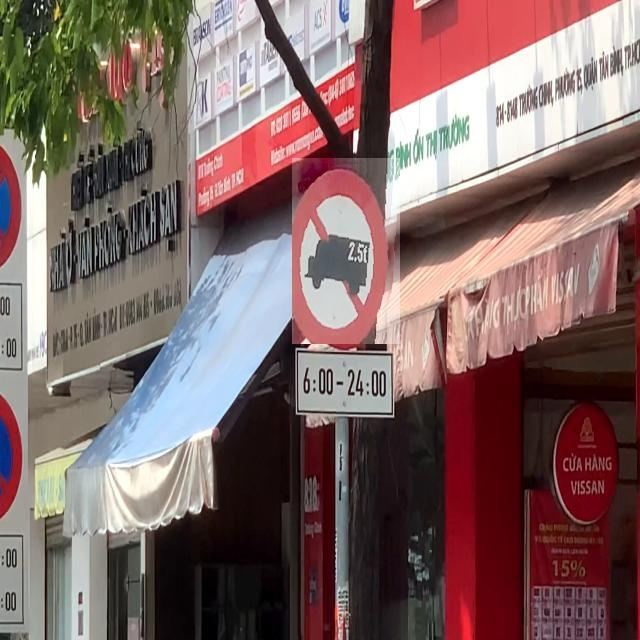bien_cam: (292, 158, 400, 344)
